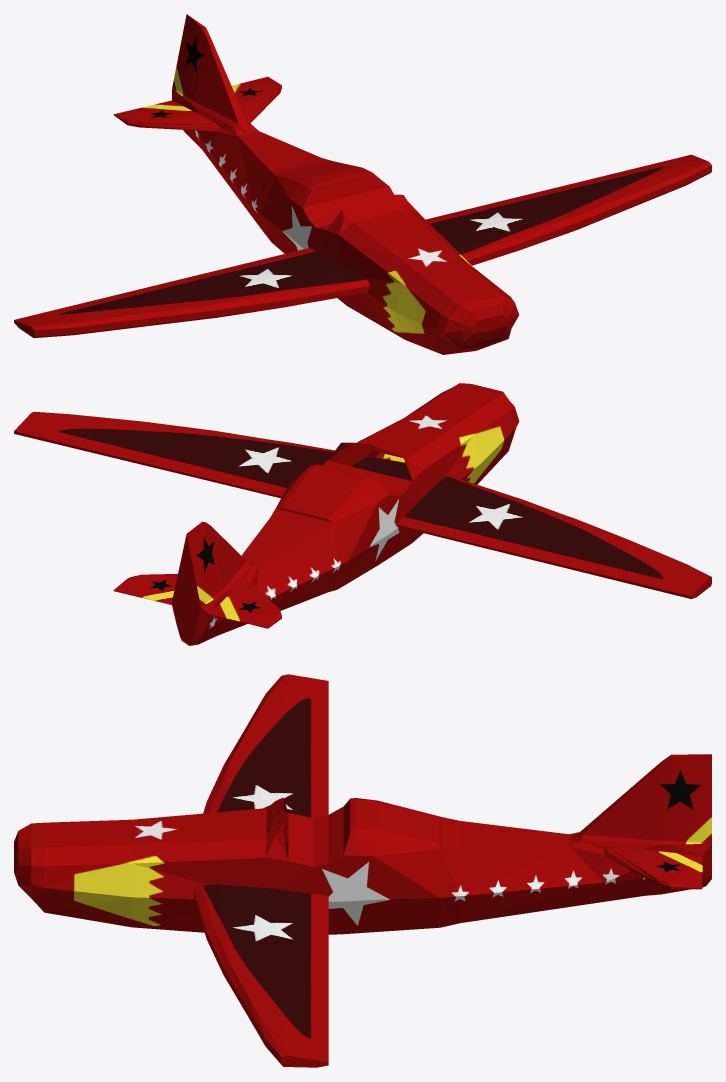
Rendered from cartoonAriplaneNoPropeller.obj.
3 renders of one model, top to bottom at view 1: azimuth 30°, elevation 25°; view 2: azimuth 150°, elevation 25°; view 3: azimuth 270°, elevation 25°, orthographic. The views are drawn at different scales.
Visible parts, largest first — view 1: Airplane; view 2: Airplane; view 3: Airplane.
Boxes of the visible parts, box(x1,y1,x2,y2) form: Airplane: box(14, 14, 711, 354); Airplane: box(14, 383, 711, 645); Airplane: box(14, 674, 711, 1067).
Bounding box in the file's own units: 11.73 × 2.42 × 9.07.
1 material, 1 textured.
